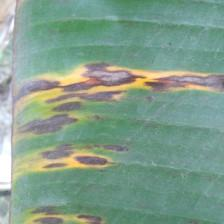sigatoka: (11, 0, 224, 224)
